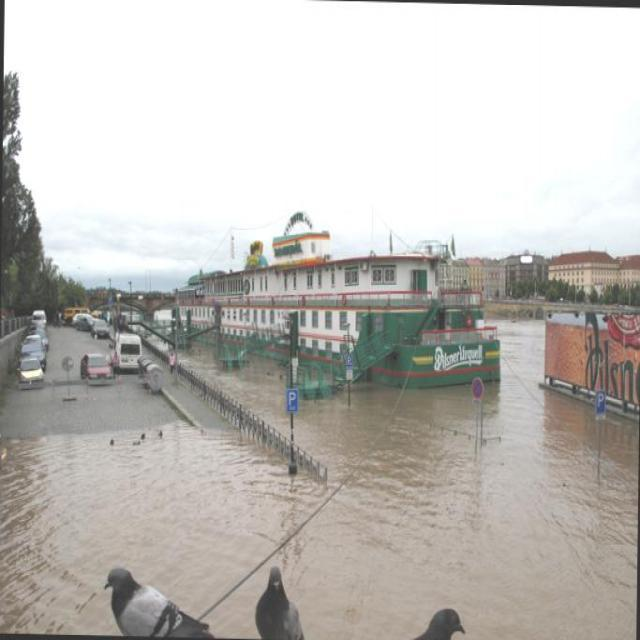flood: (0, 404, 639, 639)
